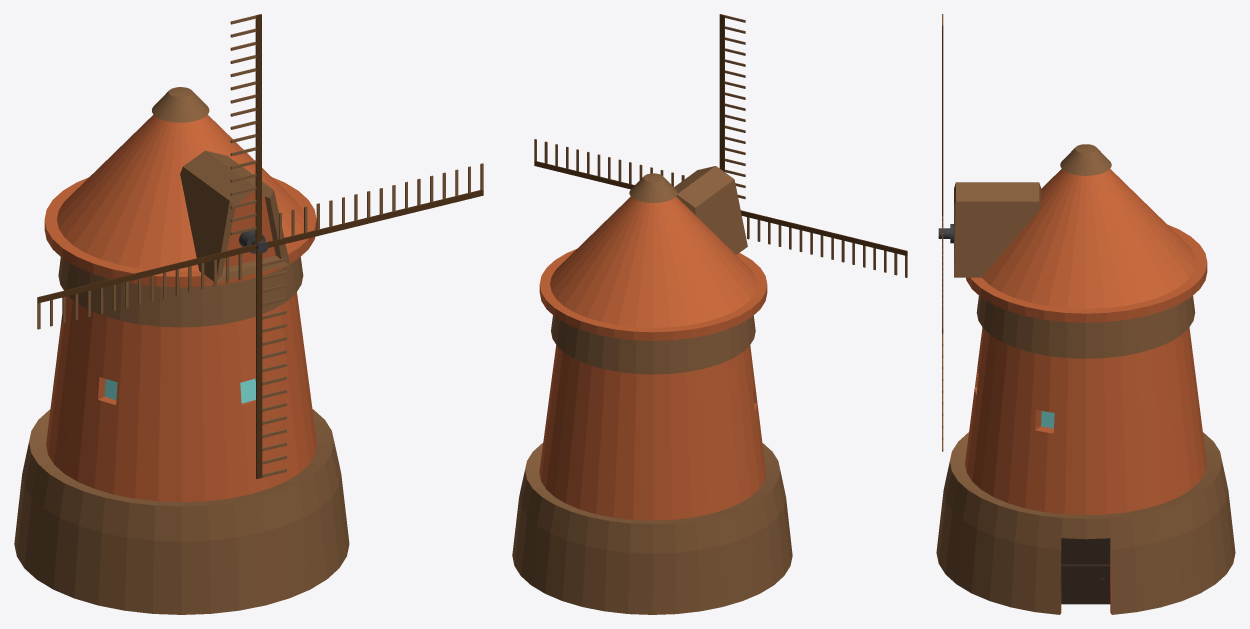
Rendered from mill01.fbx.
The picture shows the model from 3 angles, left to right: view 1: azimuth 30°, elevation 25°; view 2: azimuth 150°, elevation 25°; view 3: azimuth 270°, elevation 25°; orthographic projection. The views are drawn at different scales.
Visible parts, largest first — view 1: mill01, mill01.propeller; view 2: mill01, mill01.propeller; view 3: mill01, mill01.propeller.
Part boxes in pixels (<box>): mill01: <box>14,87,349,614</box>; mill01.propeller: <box>37,14,483,478</box>; mill01: <box>512,166,792,614</box>; mill01.propeller: <box>534,14,907,277</box>; mill01: <box>936,144,1235,614</box>; mill01.propeller: <box>938,14,953,451</box>.
Size of the model in its own units: 1199 by 1522 by 781.
